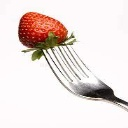strawberry: (18, 11, 78, 62)
